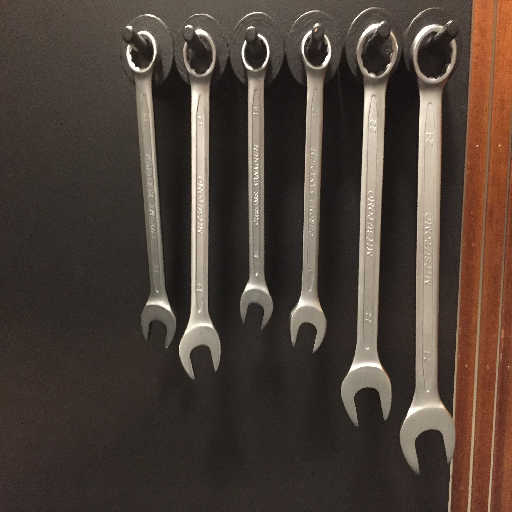bottom: (399, 401, 456, 474), (340, 360, 393, 426), (178, 319, 222, 382), (288, 299, 327, 354), (140, 298, 176, 351), (240, 279, 274, 331)
top: (409, 22, 457, 87), (353, 21, 400, 83), (181, 29, 219, 84), (124, 29, 161, 77), (298, 27, 334, 74), (239, 31, 272, 76)
